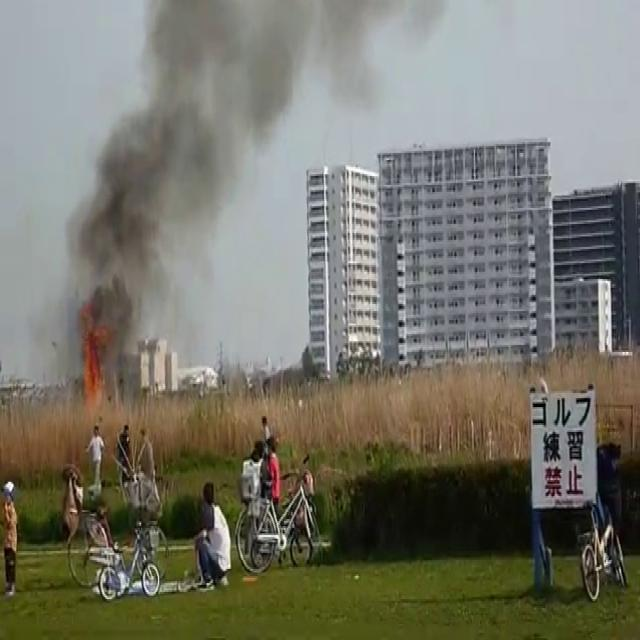Fire: (76, 325, 112, 414)
Smoke: (48, 0, 249, 395), (116, 0, 440, 134)
